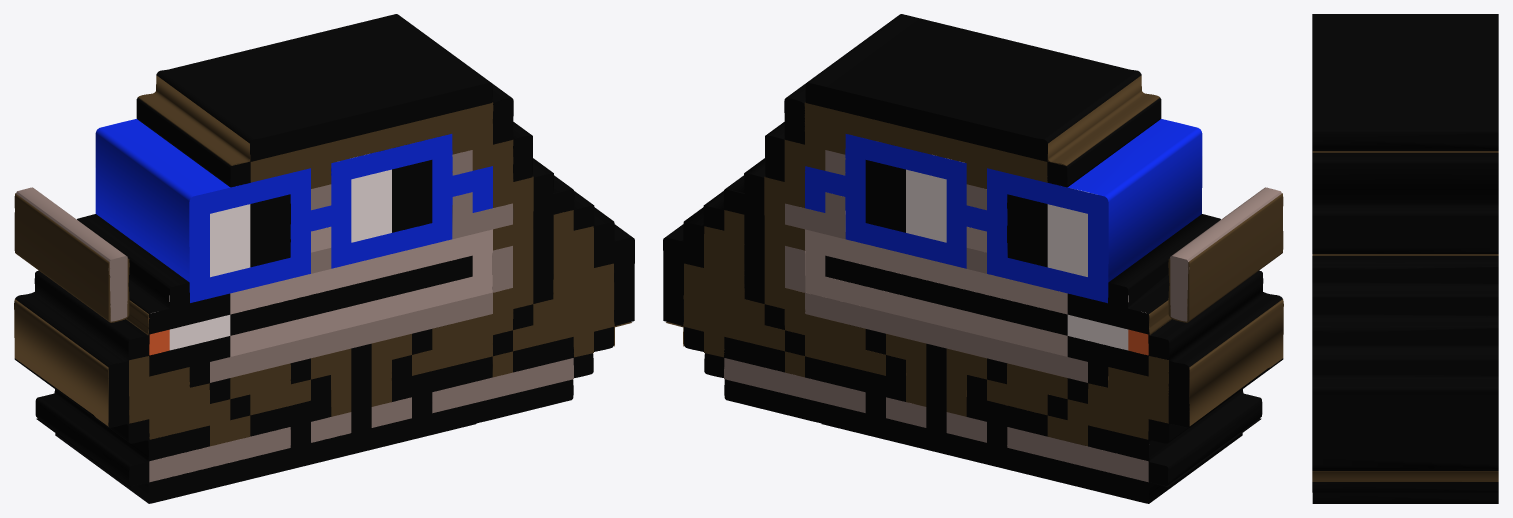
File: Toadz_6896.glb
The picture shows the model from 3 angles, left to right: view 1: azimuth 30°, elevation 25°; view 2: azimuth 150°, elevation 25°; view 3: azimuth 270°, elevation 25°; orthographic projection.
Parts seen in each view (by area): view 1: Curve; view 2: Curve; view 3: Curve.
Boxes of the visible parts, box(x1,y1,x2,y2) form: Curve: box(14, 14, 634, 503); Curve: box(663, 14, 1283, 503); Curve: box(1312, 14, 1498, 503).
Size of the model in its own units: 3.25 by 2 by 1.
